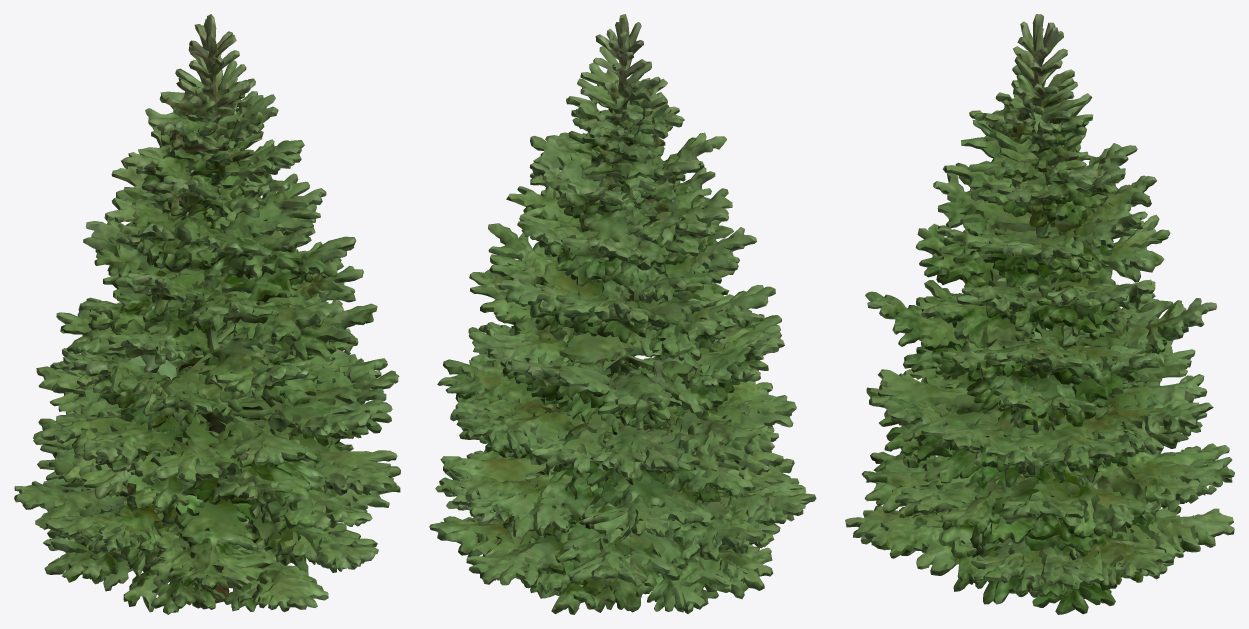
Rendered from r10-fir-sapling.glb.
The picture shows the model from 3 angles, left to right: view 1: azimuth 30°, elevation 25°; view 2: azimuth 150°, elevation 25°; view 3: azimuth 270°, elevation 25°; orthographic projection.
Visible parts, largest first — view 1: geometry_0; view 2: geometry_0; view 3: geometry_0.
Boxes of the visible parts, box(x1,y1,x2,y2) form: geometry_0: box(14, 14, 400, 614); geometry_0: box(429, 14, 816, 614); geometry_0: box(845, 14, 1234, 614).
Size of the model in its own units: 162256 by 262136 by 161680.
Materials: 1 (1 with a texture image).
